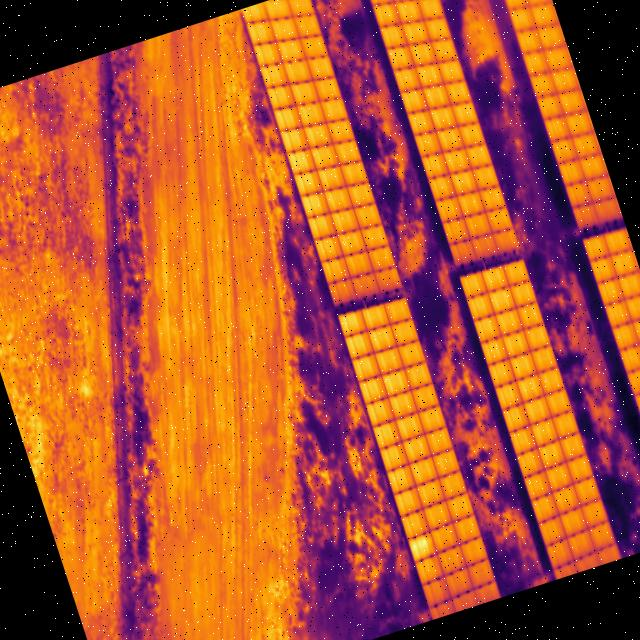Hotspot: (410, 536, 434, 560)
